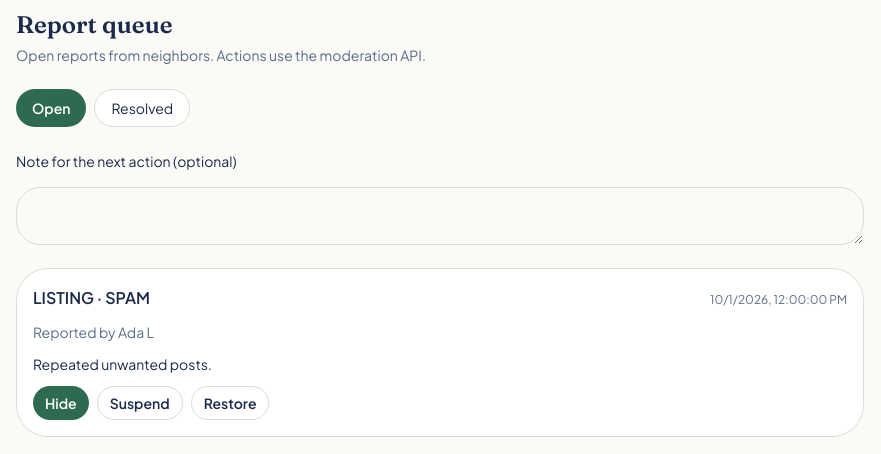
report queue › lists dismissed reports on the Resolved tab
The image size is (881, 454).
expect the text "Repeated unwanted posts." is shown: met, box [33,355,212,373]
expect the text "Dismissed spam." is not shown: met
Click the button "Resolved".
click(142, 108)  # box [94,89,190,127]
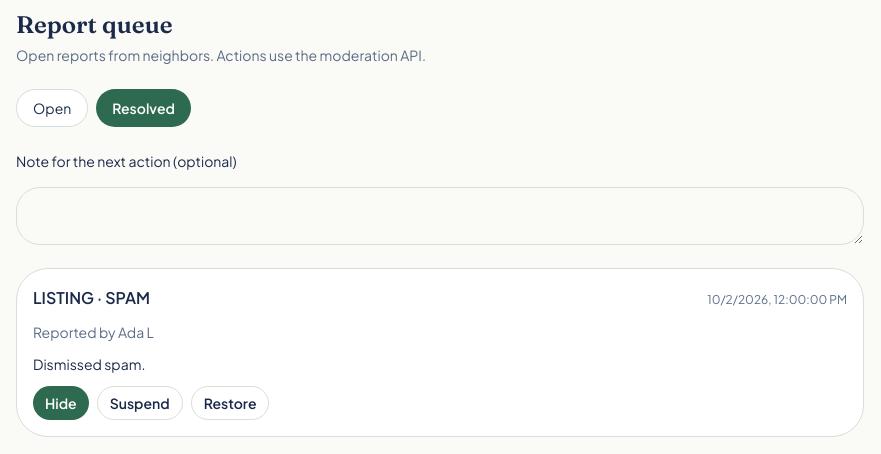
expect the text "Dismissed spam." is shown: met, box [33,355,145,373]
